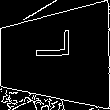L_W: (34, 40, 76, 72)
